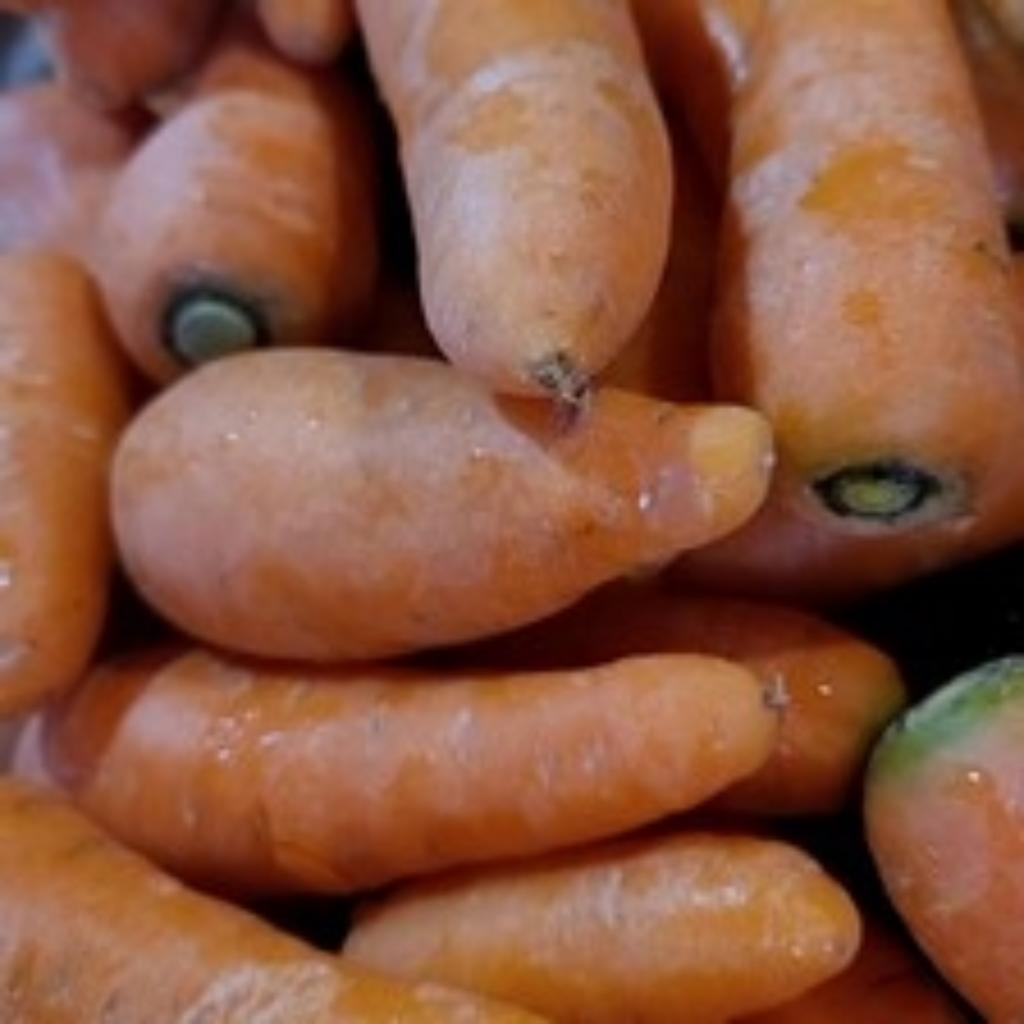carrot: (18, 588, 898, 893), (676, 0, 1024, 595), (112, 348, 768, 659), (0, 773, 526, 1015)
